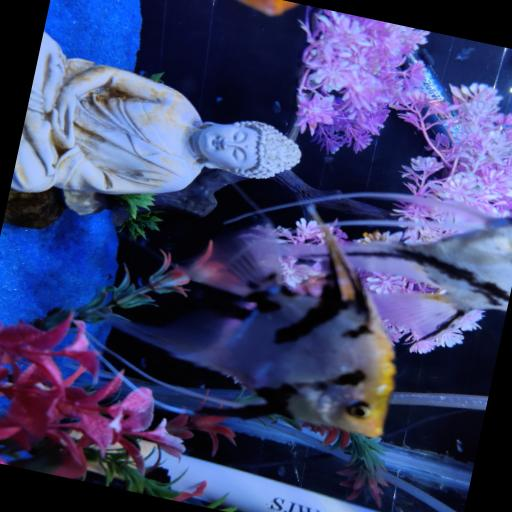Fish: (108, 209, 394, 437), (342, 198, 511, 339), (345, 215, 511, 339), (237, 0, 297, 16)
